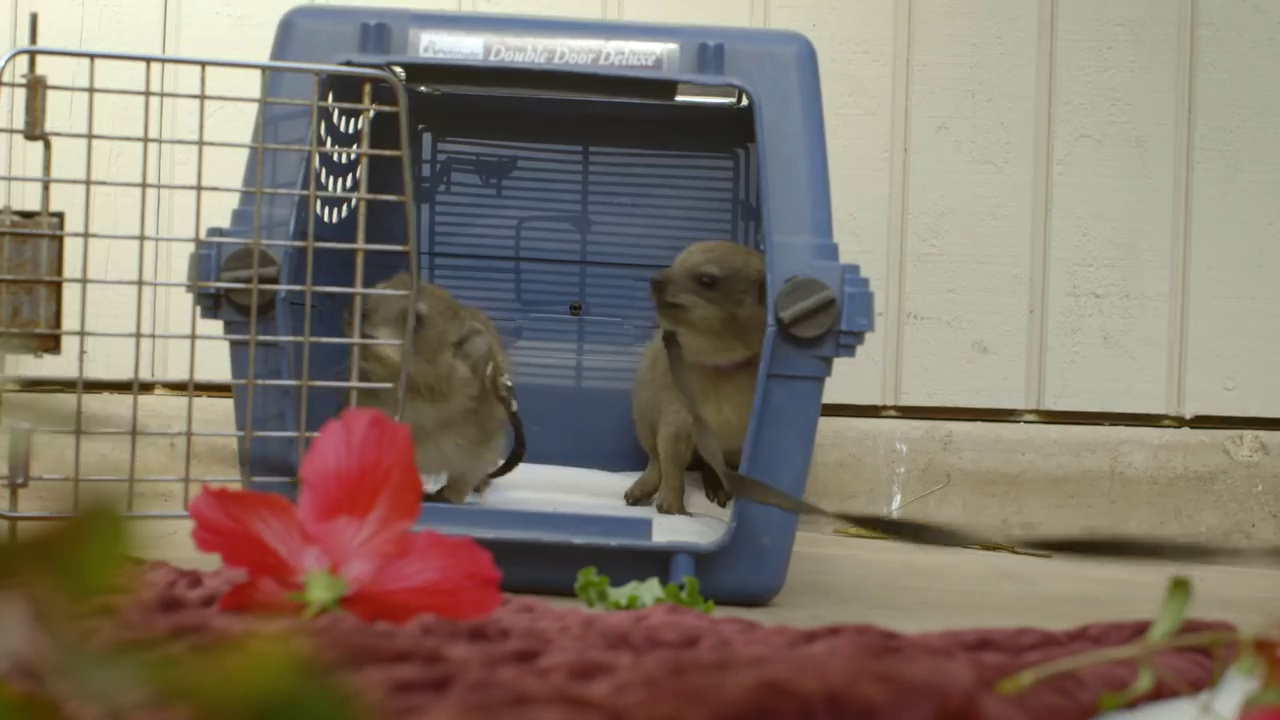Rock Hyrex: (630, 240, 782, 531), (344, 278, 515, 501)
